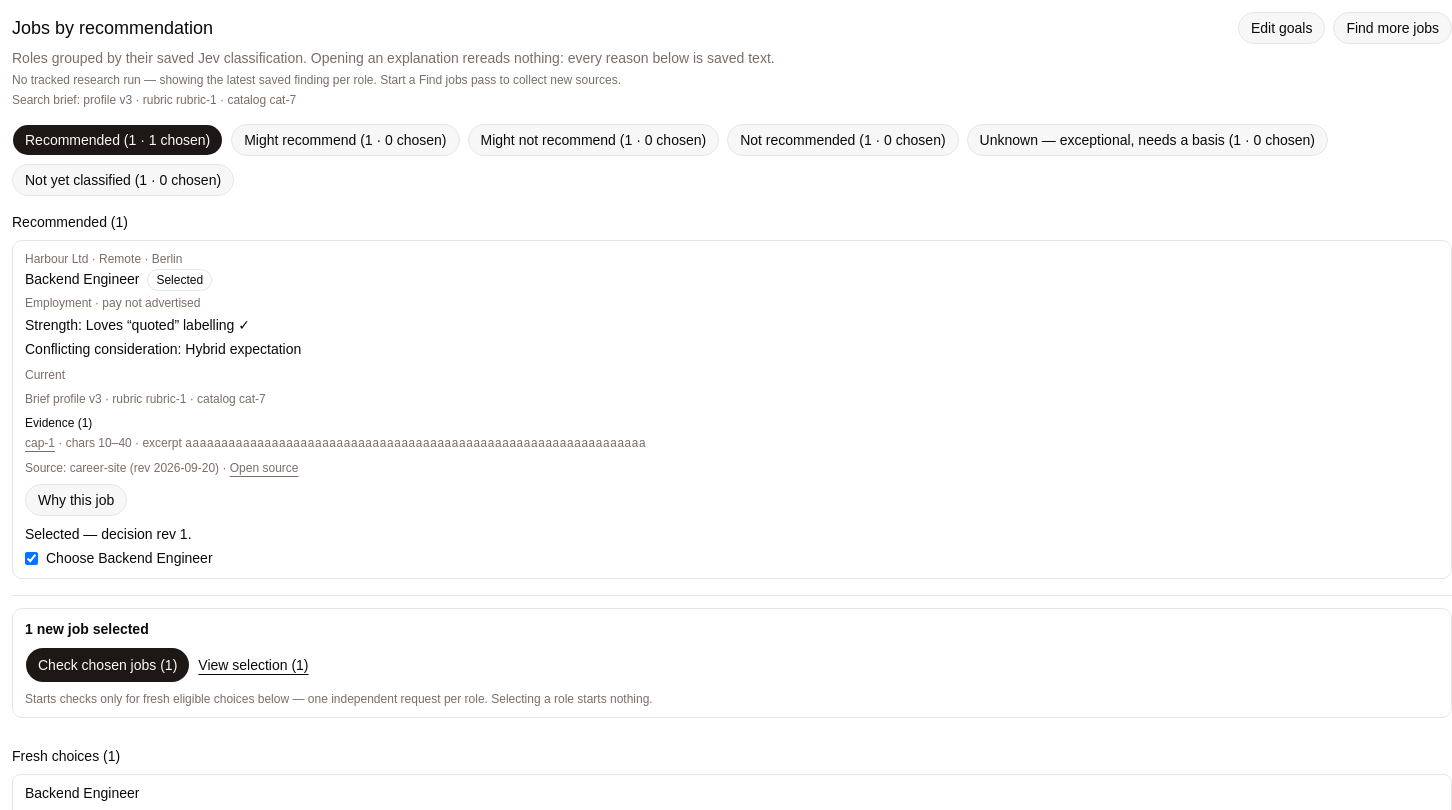
Test: GroupedJobs › choosing a conflicting job relaxes no standing goal
The width and height of the screenshot is (1452, 810).
Expected: the button "Check chosen jobs (1)" is shown, x1=25 y1=647 x2=190 y2=683
Click the checkbox labelled "Choose Backend Engineer" at (32, 558), box x1=25 y1=552 x2=38 y2=564
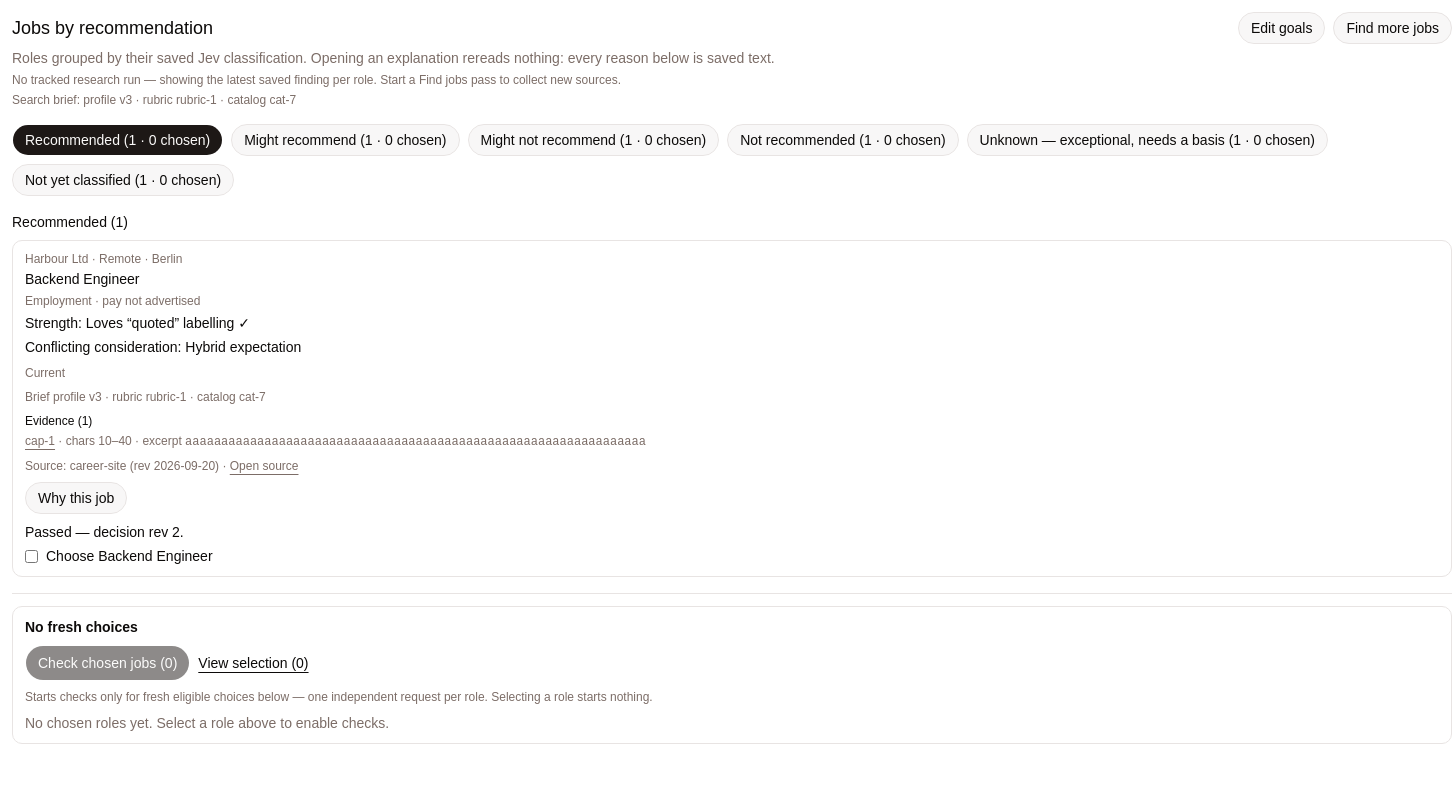
Result: the button "Check chosen jobs (0)" is shown at x1=25 y1=645 x2=190 y2=681
Click the checkbox labelled "Choose Backend Engineer" at (32, 556), box x1=25 y1=550 x2=38 y2=562
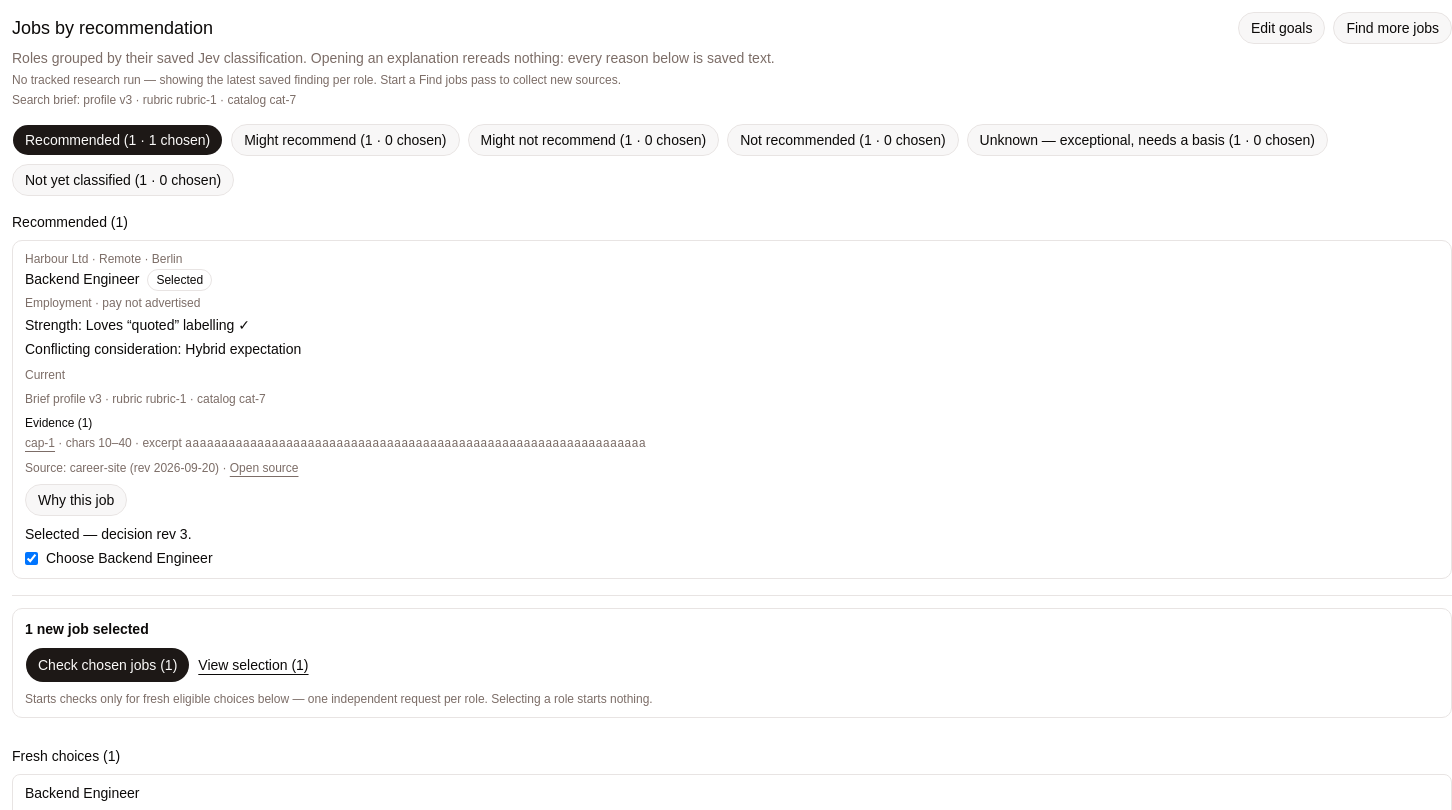
Result: the button "Check chosen jobs (1)" is shown at x1=25 y1=647 x2=190 y2=683
Result: the text "Selected — decision rev 3." is shown at x1=25 y1=526 x2=192 y2=542
